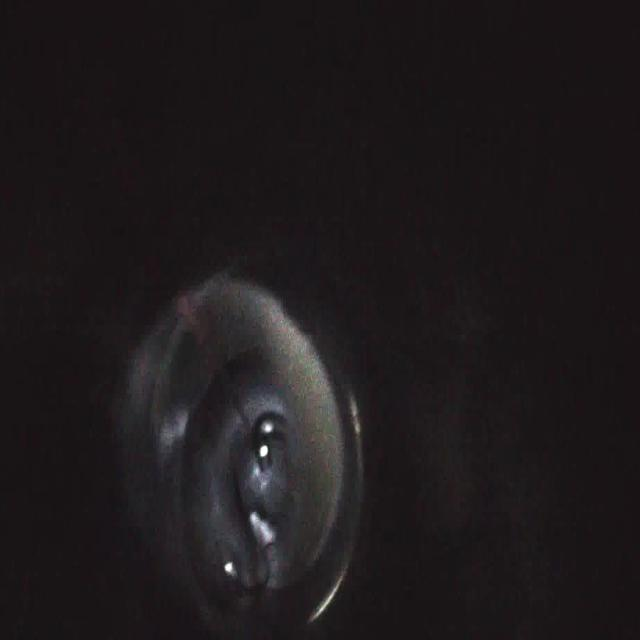impurity: (238, 543, 272, 593), (246, 510, 278, 548)
